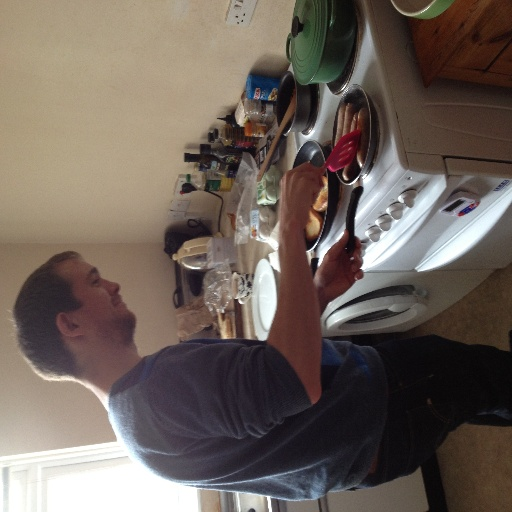hand: (313, 229, 363, 302), (273, 165, 325, 226)
